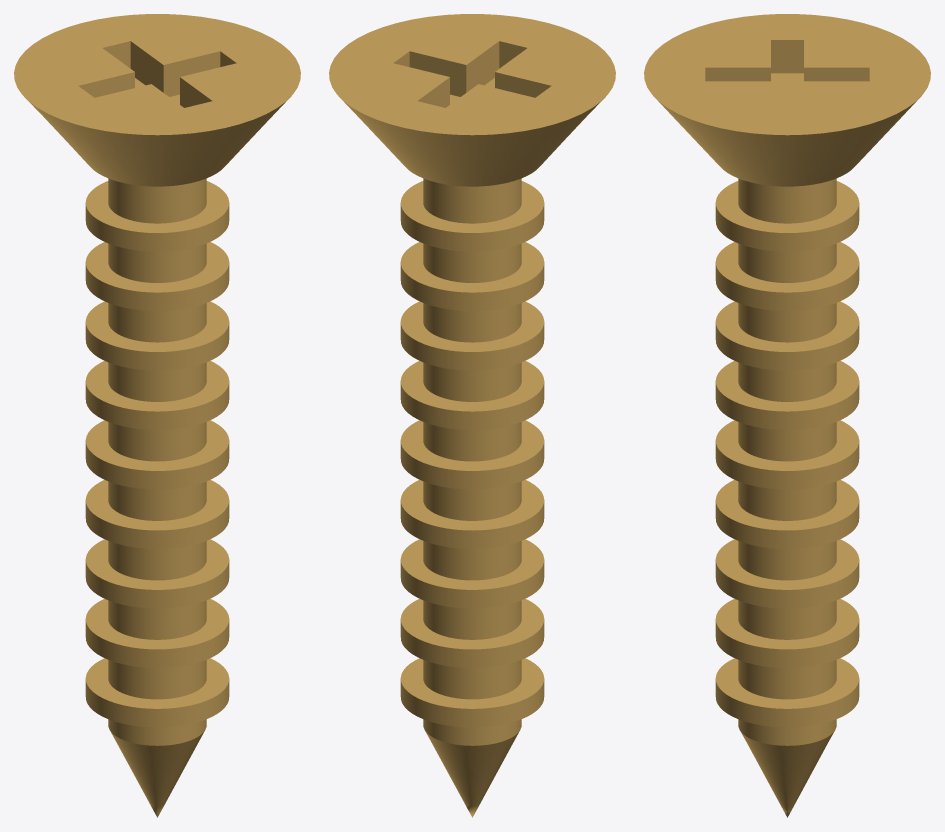
File: madeira_3_5x20.glb
3 views of the same model, side by side, from view 1: azimuth 30°, elevation 25°; view 2: azimuth 150°, elevation 25°; view 3: azimuth 270°, elevation 25° (orthographic).
Parts seen in each view (by area): view 1: madeira_3_5x20; view 2: madeira_3_5x20; view 3: madeira_3_5x20.
Part boxes in pixels (<box>): madeira_3_5x20: <box>14,14,300,817</box>; madeira_3_5x20: <box>329,14,615,817</box>; madeira_3_5x20: <box>644,14,930,817</box>.
Size of the model in its own units: 6.99 by 20 by 7.
